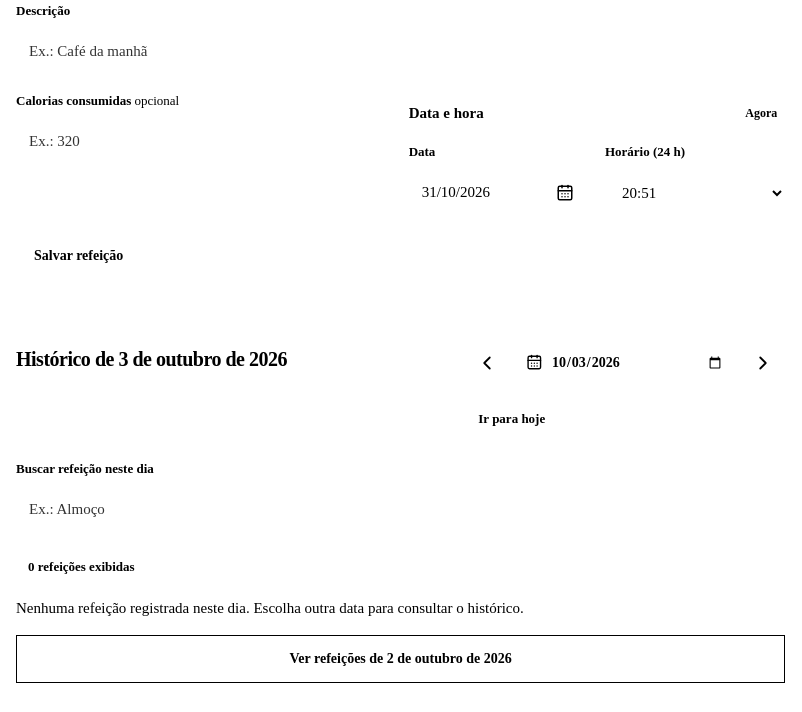
Test: atalho experimental no histórico vazio de refeições › abre o último dia anterior com refeição e foca a data
(page scrolled)
Click the button "Ver refeições de" at x=401, y=659, box [16,635,785,683]
(page scrolled)
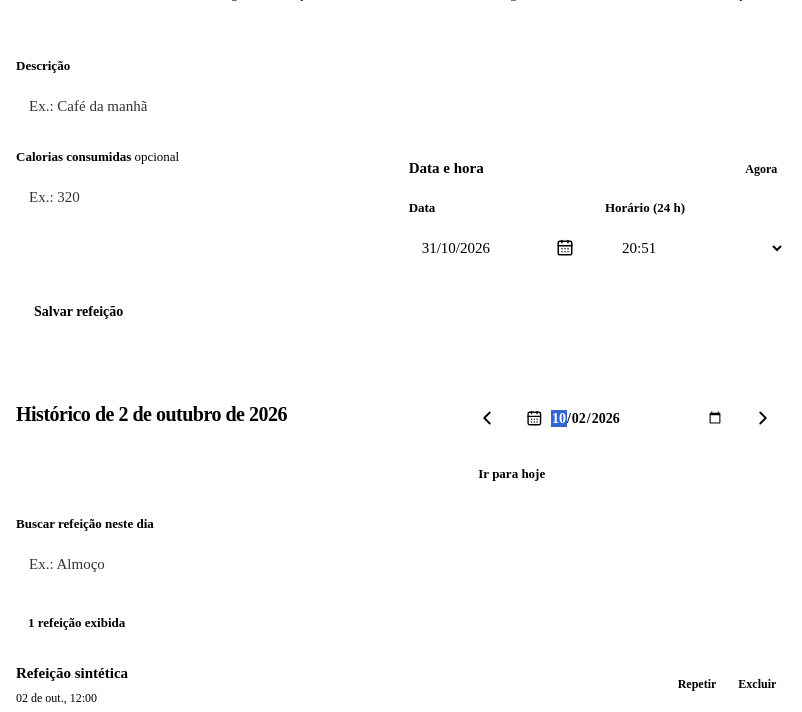
Check: the date field named "Data do histórico de refeições" holds "2026-10-02", box [550,406,724,430]
Check: the text "Refeição sintética" is shown, box [16,665,128,681]
